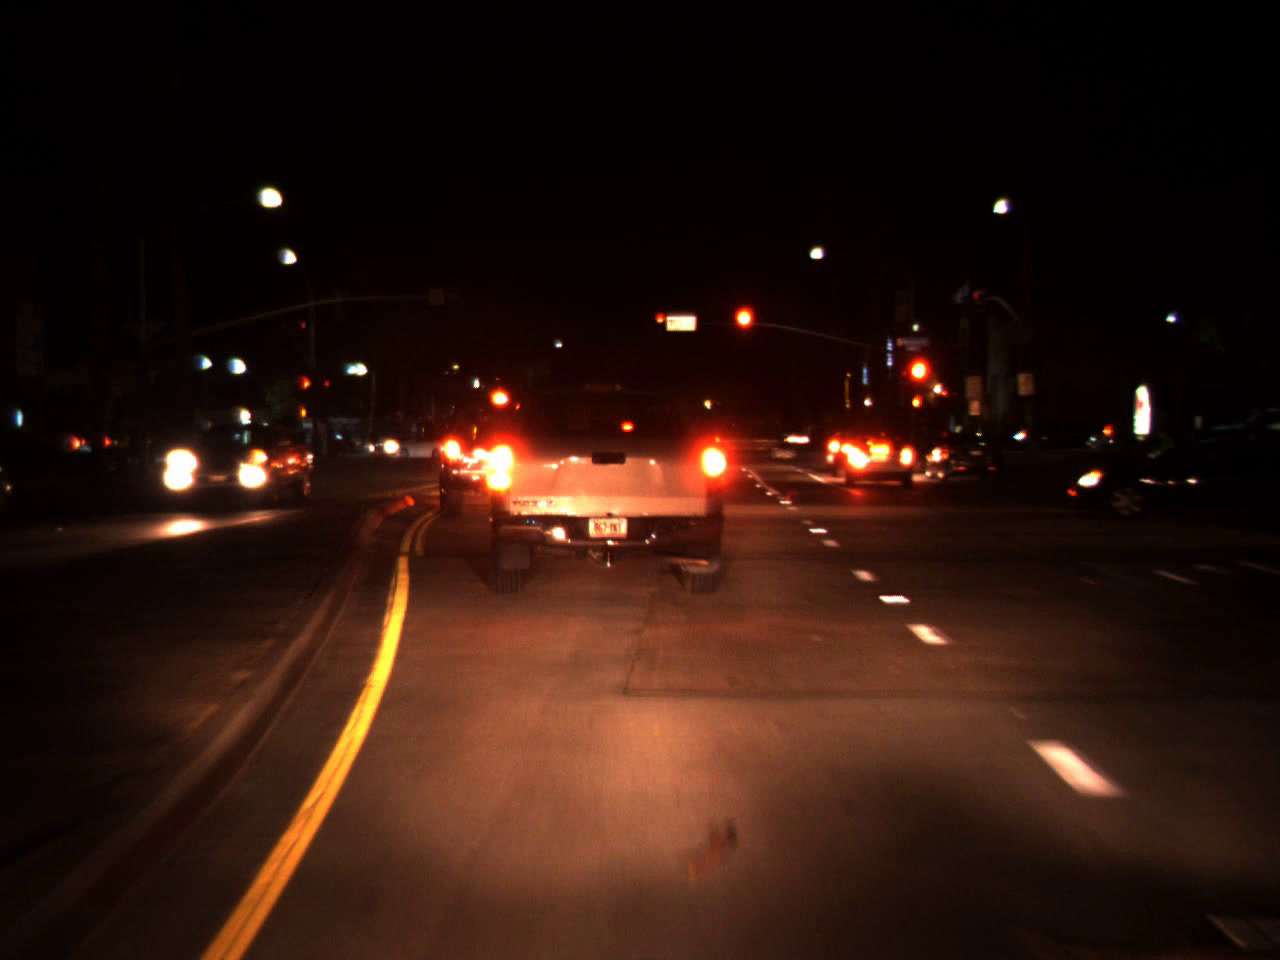stop: (902, 352, 935, 416), (730, 303, 758, 357), (654, 312, 667, 333), (302, 375, 311, 402)
